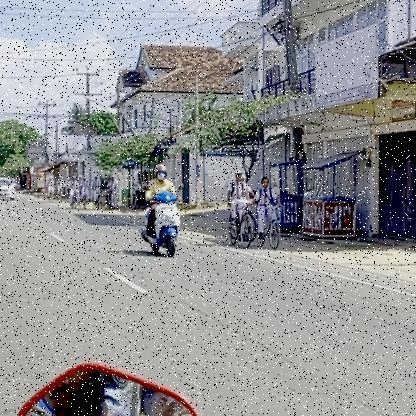motorcycle: (138, 190, 186, 260)
